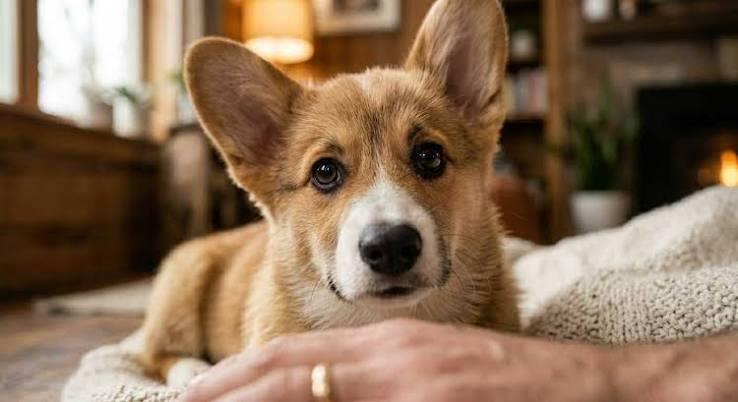puppy-dog: (138, 0, 524, 383)
